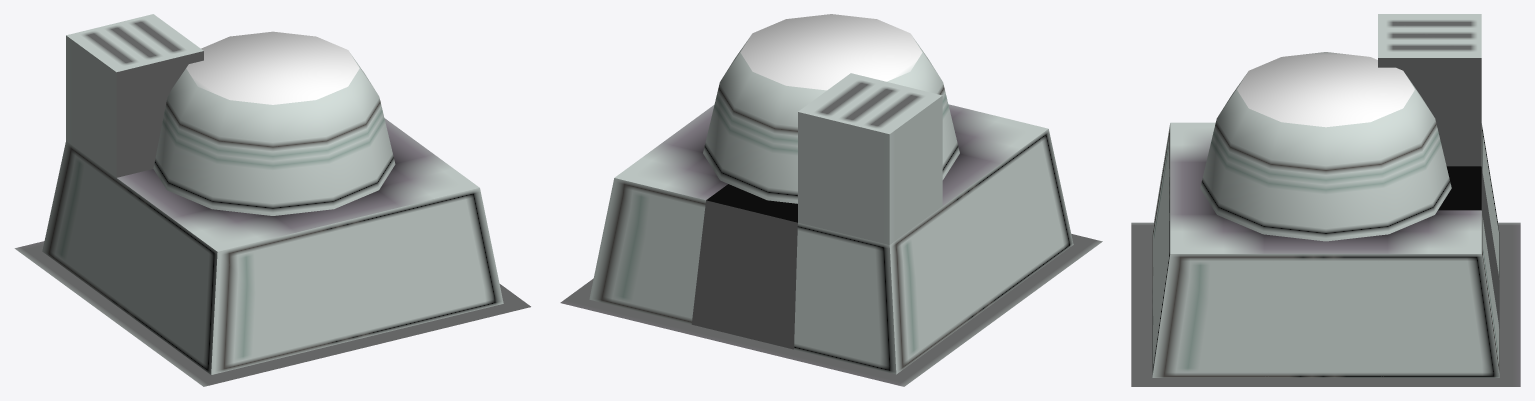
File: BLD_Oil_Refinery_Medium04.fbx
The picture shows the model from 3 angles, left to right: view 1: azimuth 30°, elevation 25°; view 2: azimuth 150°, elevation 25°; view 3: azimuth 270°, elevation 25°; orthographic projection. The views are drawn at different scales.
Visible parts, largest first — view 1: BLD_OilRefinery_Medium04; view 2: BLD_OilRefinery_Medium04; view 3: BLD_OilRefinery_Medium04.
Boxes of the visible parts, x1=… form: BLD_OilRefinery_Medium04: x1=14, y1=14, x2=530, y2=386; BLD_OilRefinery_Medium04: x1=560, y1=14, x2=1102, y2=386; BLD_OilRefinery_Medium04: x1=1131, y1=14, x2=1520, y2=386.
Size of the model in its own units: 801 by 801 by 514.
